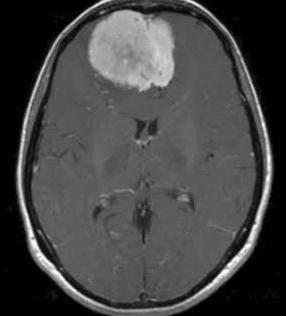Tumour-Meningioma: (78, 11, 184, 109)
